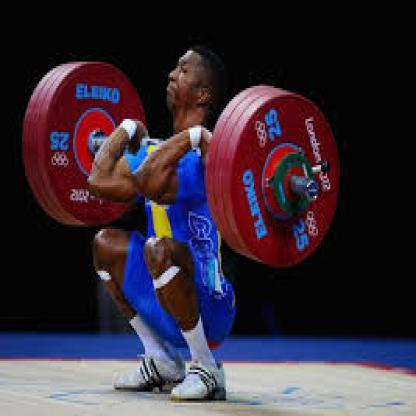Barbell: (306, 178, 323, 204)
